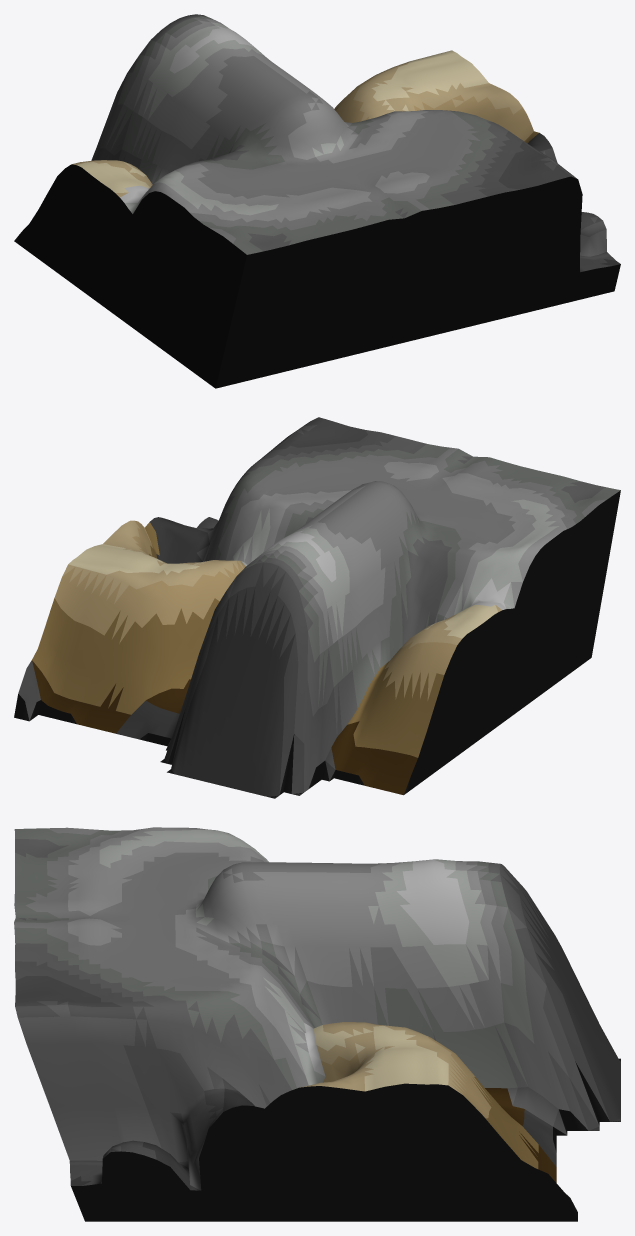
The model's file is rock_machine_tc.glb.
The picture shows the model from 3 angles, top to bottom: view 1: azimuth 30°, elevation 25°; view 2: azimuth 150°, elevation 25°; view 3: azimuth 270°, elevation 25°; orthographic projection. The views are drawn at different scales.
Parts seen in each view (by area): view 1: rock_machine_tc; view 2: rock_machine_tc; view 3: rock_machine_tc.
Part boxes in pixels (left/top/right/bottom): rock_machine_tc: left=14, top=14, right=620, bottom=388; rock_machine_tc: left=14, top=417, right=620, bottom=798; rock_machine_tc: left=14, top=827, right=620, bottom=1221.
Size of the model in its own units: 24 by 11.7 by 28.32.
